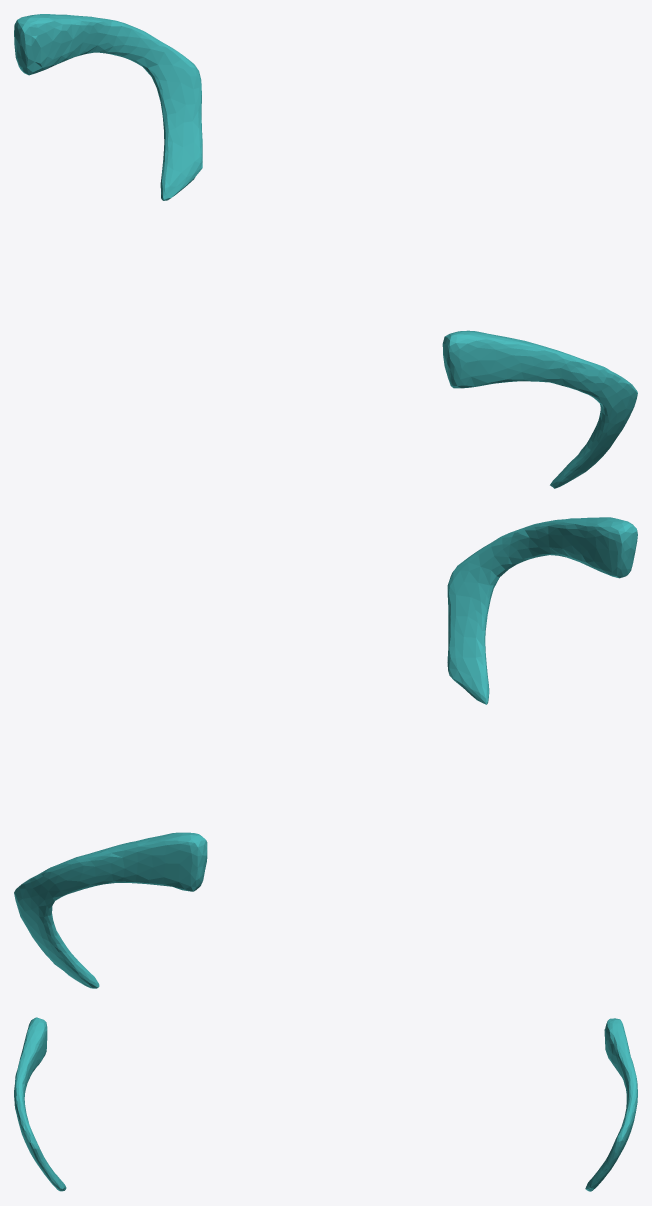
The picture shows the model from 3 angles, top to bottom: view 1: azimuth 30°, elevation 25°; view 2: azimuth 150°, elevation 25°; view 3: azimuth 270°, elevation 25°; orthographic projection. The views are drawn at different scales.
Parts seen in each view (by area): view 1: 729.obj; view 2: 729.obj; view 3: 729.obj.
Part boxes in pixels (x1,y1,x2,y2): 729.obj: [14, 14, 637, 488]; 729.obj: [14, 517, 637, 988]; 729.obj: [14, 1017, 637, 1191].
Size of the model in its own units: 2113 by 2122 by 9033.
